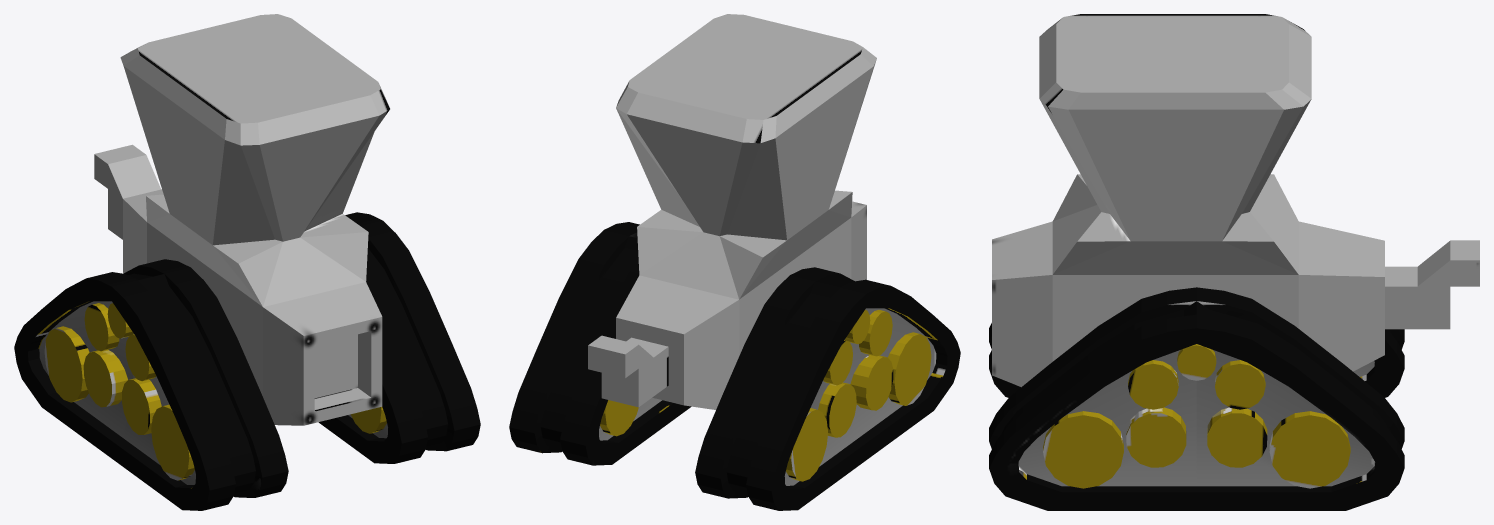
The model's file is horugasI.fbx.
3 views of the same model, side by side, from view 1: azimuth 30°, elevation 25°; view 2: azimuth 150°, elevation 25°; view 3: azimuth 270°, elevation 25° (orthographic). The views are drawn at different scales.
Visible parts, largest first — view 1: horugasI; view 2: horugasI; view 3: horugasI.
Boxes of the visible parts, left/top/right/bottom form: horugasI: left=14, top=14, right=480, bottom=510; horugasI: left=509, top=14, right=960, bottom=510; horugasI: left=989, top=14, right=1479, bottom=510.
Bounding box in the file's own units: 22.39 × 28.82 × 33.07.
